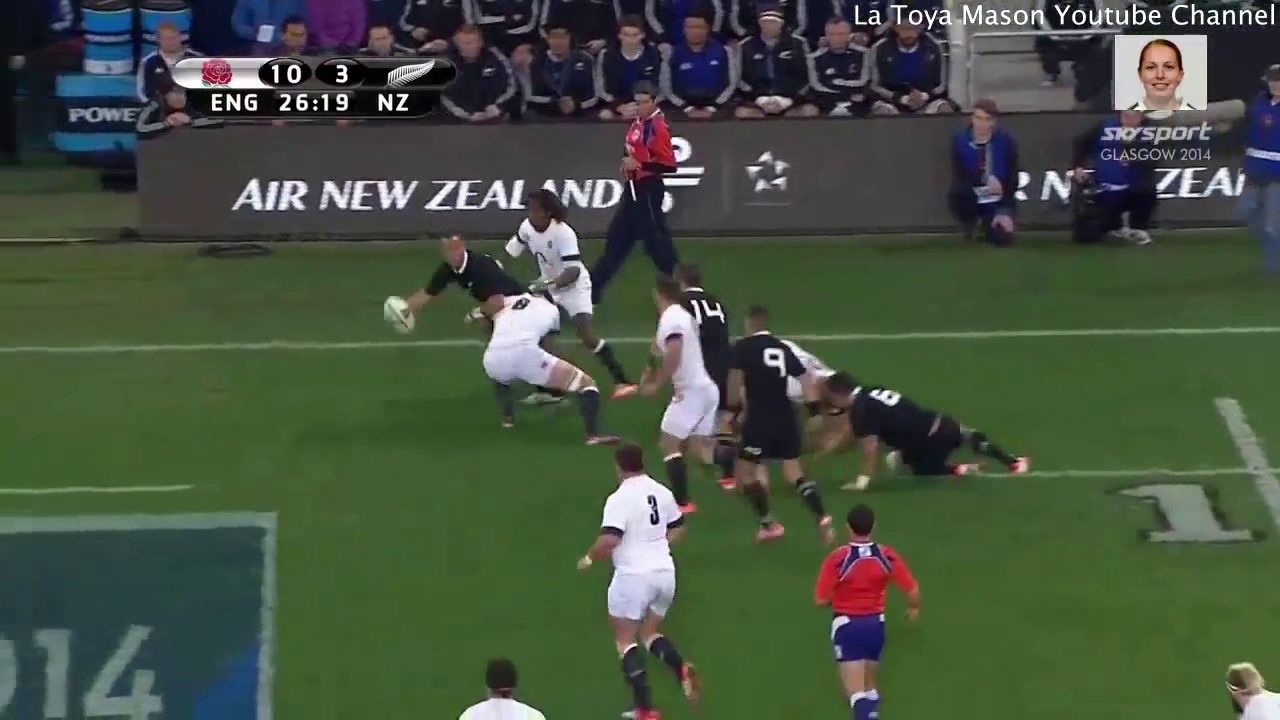ball: (377, 291, 419, 337)
player: (573, 436, 709, 720), (714, 306, 843, 553), (819, 367, 1047, 500), (803, 500, 928, 720), (507, 188, 634, 388), (632, 276, 731, 520), (488, 282, 619, 450), (449, 649, 551, 718), (676, 260, 734, 376), (424, 229, 511, 296), (1215, 644, 1280, 720)
